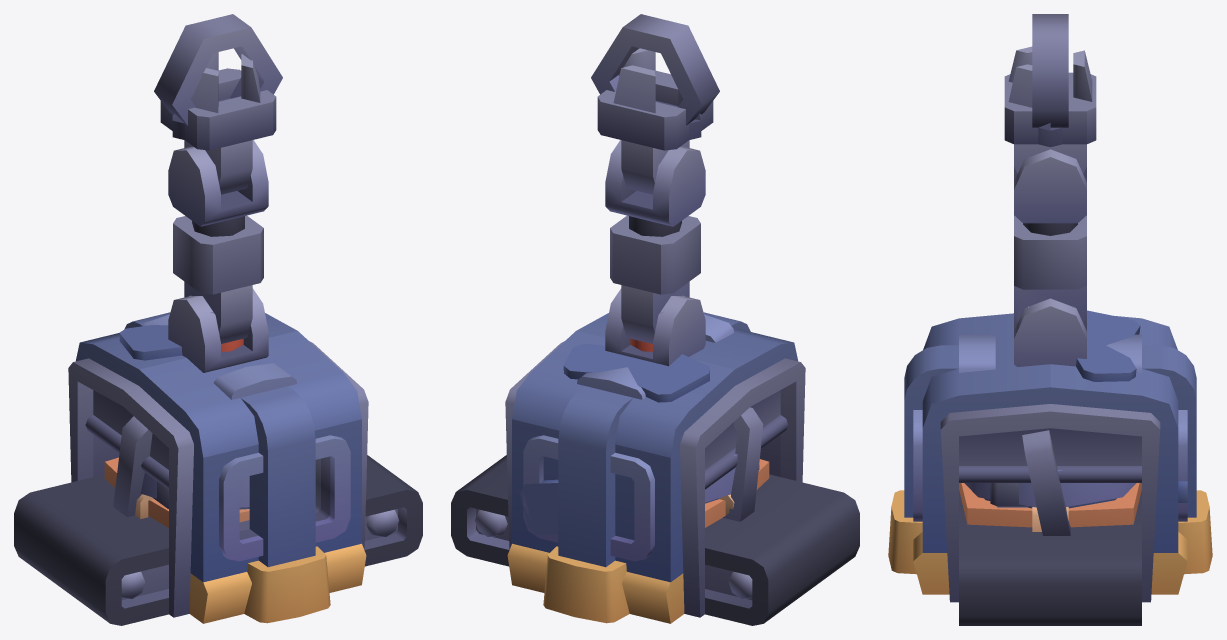
The model's file is factory.glb.
The picture shows the model from 3 angles, left to right: view 1: azimuth 30°, elevation 25°; view 2: azimuth 150°, elevation 25°; view 3: azimuth 270°, elevation 25°; orthographic projection.
Visible parts, largest first — view 1: machine-window, machine, conveyor-long, scanner-high, element-f (×2), element-d, element-e, element-c, claw-b, screen-panel-wide, claw-a, box-large (+1 smaller); view 2: machine-window, machine, conveyor-long, scanner-high, element-f (×2), element-d, element-e, element-c, claw-b, screen-panel-wide, claw-a, box-large (+1 smaller); view 3: machine-window, machine, conveyor-long, scanner-high, element-f (×2), element-d, element-e, element-c, screen-panel-wide, box-large, claw-a, hopper-round.
Part boxes in pixels (x1,y1,x2,y2): machine-window: (68,313,368,623); machine: (69,325,368,623); conveyor-long: (14,455,422,625); scanner-high: (124,312,330,623); element-f (×2): (160,52,276,194); element-d: (173,215,263,343); element-e: (168,140,268,226); element-c: (168,288,268,372); claw-b: (154,20,227,125); screen-panel-wide: (113,416,168,516); claw-a: (209,14,282,98); box-large: (104,457,249,527); machine-window: (505,313,805,623); machine: (505,344,804,623); conveyor-long: (451,455,859,625); scanner-high: (543,312,750,623); element-f (×2): (597,48,713,194); element-d: (610,215,700,343); element-e: (605,140,705,226); element-c: (605,288,705,366); claw-b: (646,20,719,125); screen-panel-wide: (723,407,763,521); claw-a: (591,14,664,94); box-large: (705,459,769,527); machine-window: (913,313,1187,602); machine: (914,310,1187,594); conveyor-long: (959,490,1141,625); scanner-high: (888,334,1212,574); element-f (×2): (1004,46,1096,173); element-d: (1014,215,1086,322); element-e: (1014,149,1086,223); element-c: (1014,298,1086,366); screen-panel-wide: (990,430,1070,535); box-large: (959,483,1141,531); claw-a: (1032,25,1068,127); hopper-round: (964,470,1136,508).
Bounding box in the file's own units: 2 × 3.2 × 1.77.
2 materials, 1 textured.
